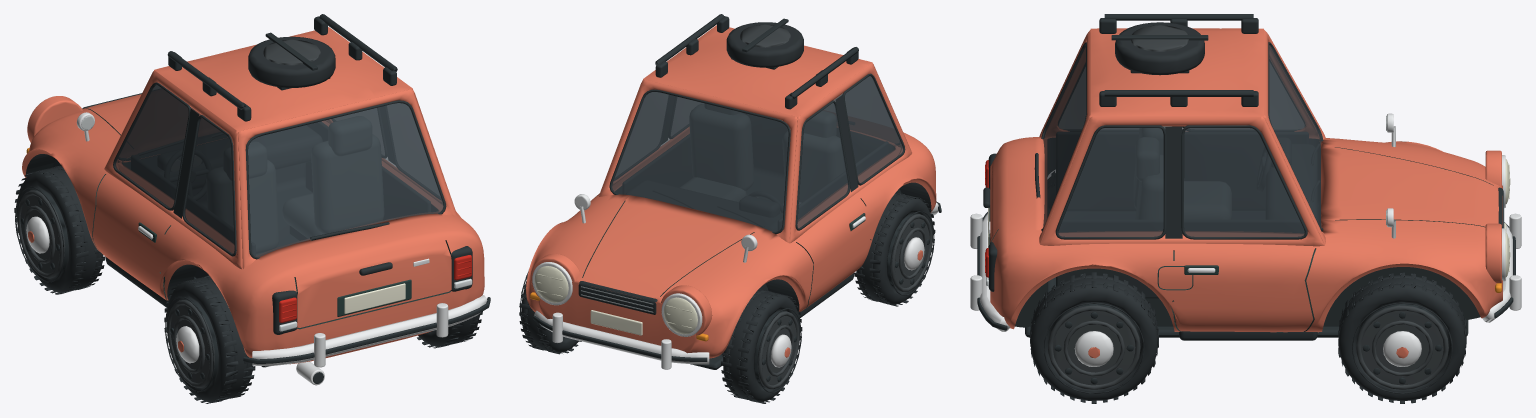
The model's file is puddle_lod1.fbx.
3 renders of one model, left to right at view 1: azimuth 30°, elevation 25°; view 2: azimuth 150°, elevation 25°; view 3: azimuth 270°, elevation 25°, orthographic. The views are drawn at different scales.
Visible parts, largest first — view 1: Body, Wheel_RL_Mesh, Wheel_FL_Mesh, Wheel_RR_Mesh; view 2: Body, Wheel_FL_Mesh, Wheel_RL_Mesh, Wheel_FR_Mesh; view 3: Body, Wheel_RR_Mesh, Wheel_FR_Mesh.
Part boxes in pixels (<box>): Body: <box>22,14,490,385</box>; Wheel_RL_Mesh: <box>164,275,255,403</box>; Wheel_FL_Mesh: <box>14,165,105,294</box>; Wheel_RR_Mesh: <box>417,311,482,348</box>; Body: <box>526,14,941,369</box>; Wheel_FL_Mesh: <box>721,289,802,403</box>; Wheel_RL_Mesh: <box>854,192,935,306</box>; Wheel_FR_Mesh: <box>519,271,581,354</box>; Body: <box>970,14,1521,340</box>; Wheel_RR_Mesh: <box>1030,272,1158,403</box>; Wheel_FR_Mesh: <box>1338,272,1466,403</box>.
Size of the model in its own units: 197 by 193 by 318.
